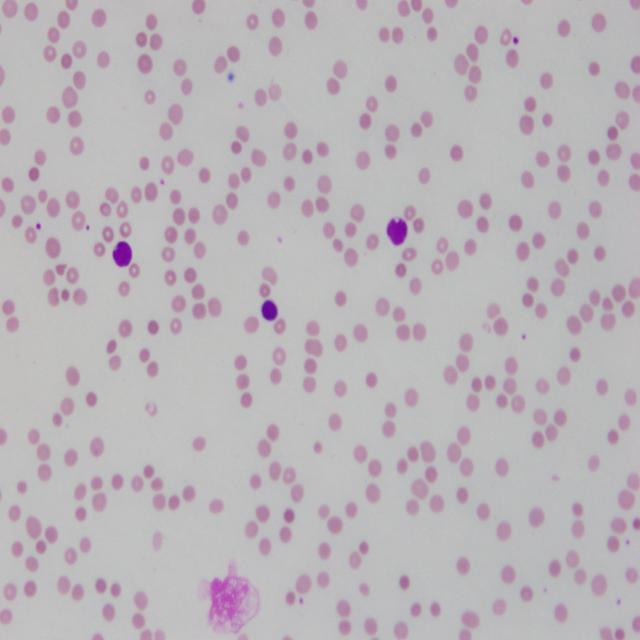cell: (386, 218, 408, 245), (112, 242, 132, 267), (261, 300, 278, 320)
